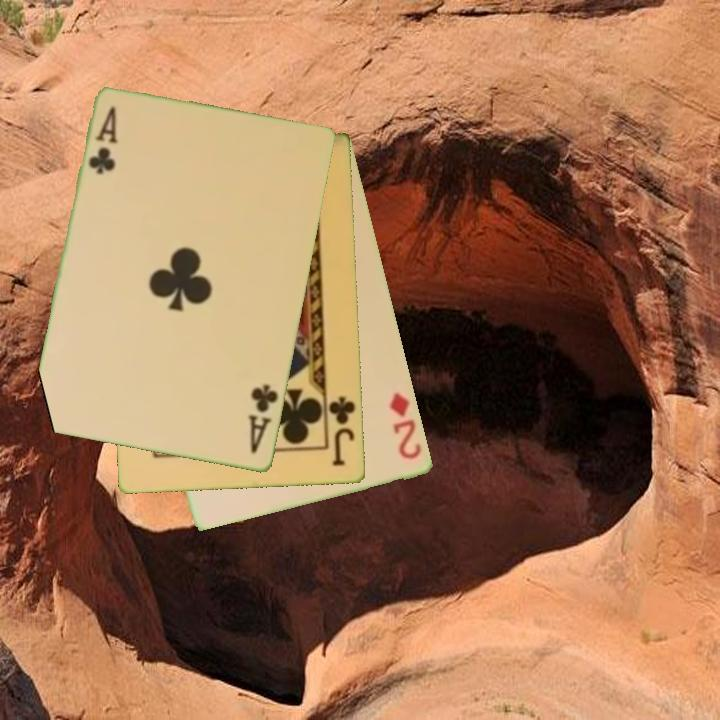2d: (387, 389, 425, 463)
Ac: (244, 381, 282, 457), (85, 103, 122, 178)
Jc: (325, 393, 359, 470)
